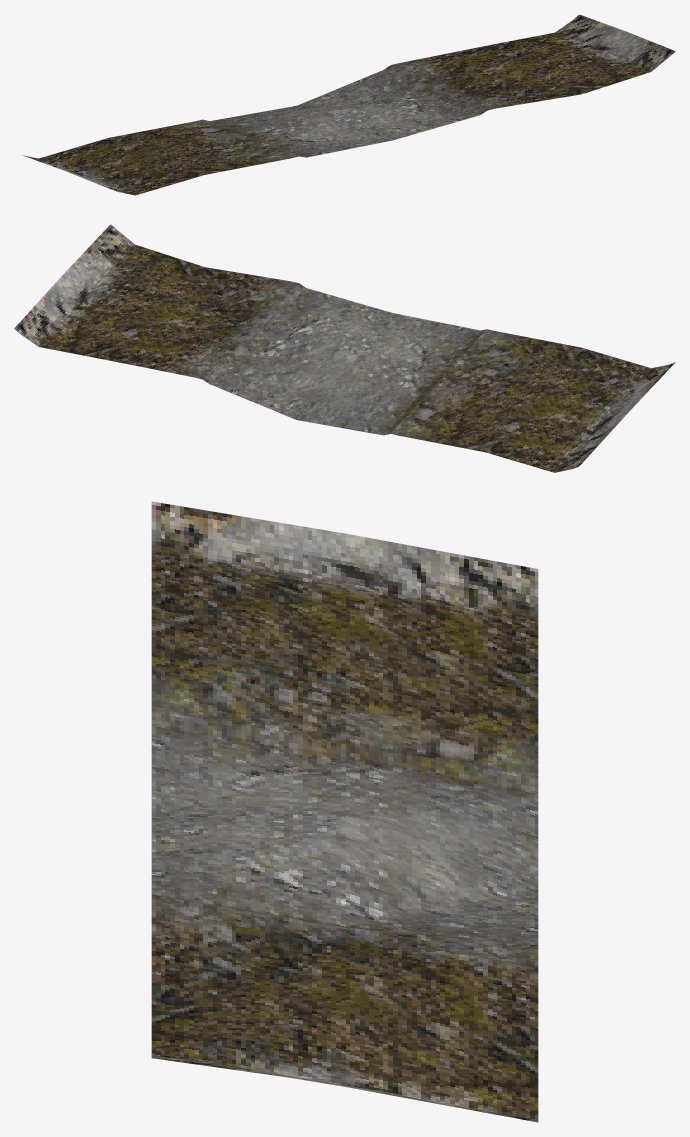
The model's file is 2_road_02_start_downHill.glb.
The picture shows the model from 3 angles, top to bottom: view 1: azimuth 30°, elevation 25°; view 2: azimuth 150°, elevation 25°; view 3: azimuth 270°, elevation 25°; orthographic projection. The views are drawn at different scales.
Visible parts, largest first — view 1: 2_road_02_start_downHill; view 2: 2_road_02_start_downHill; view 3: 2_road_02_start_downHill.
Boxes of the visible parts, x1,y1,x2,y2 form: 2_road_02_start_downHill: (23,14,675,195); 2_road_02_start_downHill: (14,224,675,472); 2_road_02_start_downHill: (151,501,538,1122).
Size of the model in its own units: 27.01 by 2.57 by 8.
1 material, 1 textured.
